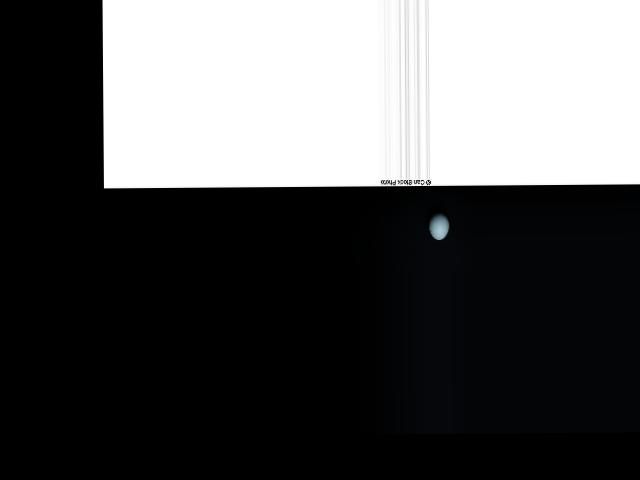egg: (428, 212, 449, 240)
